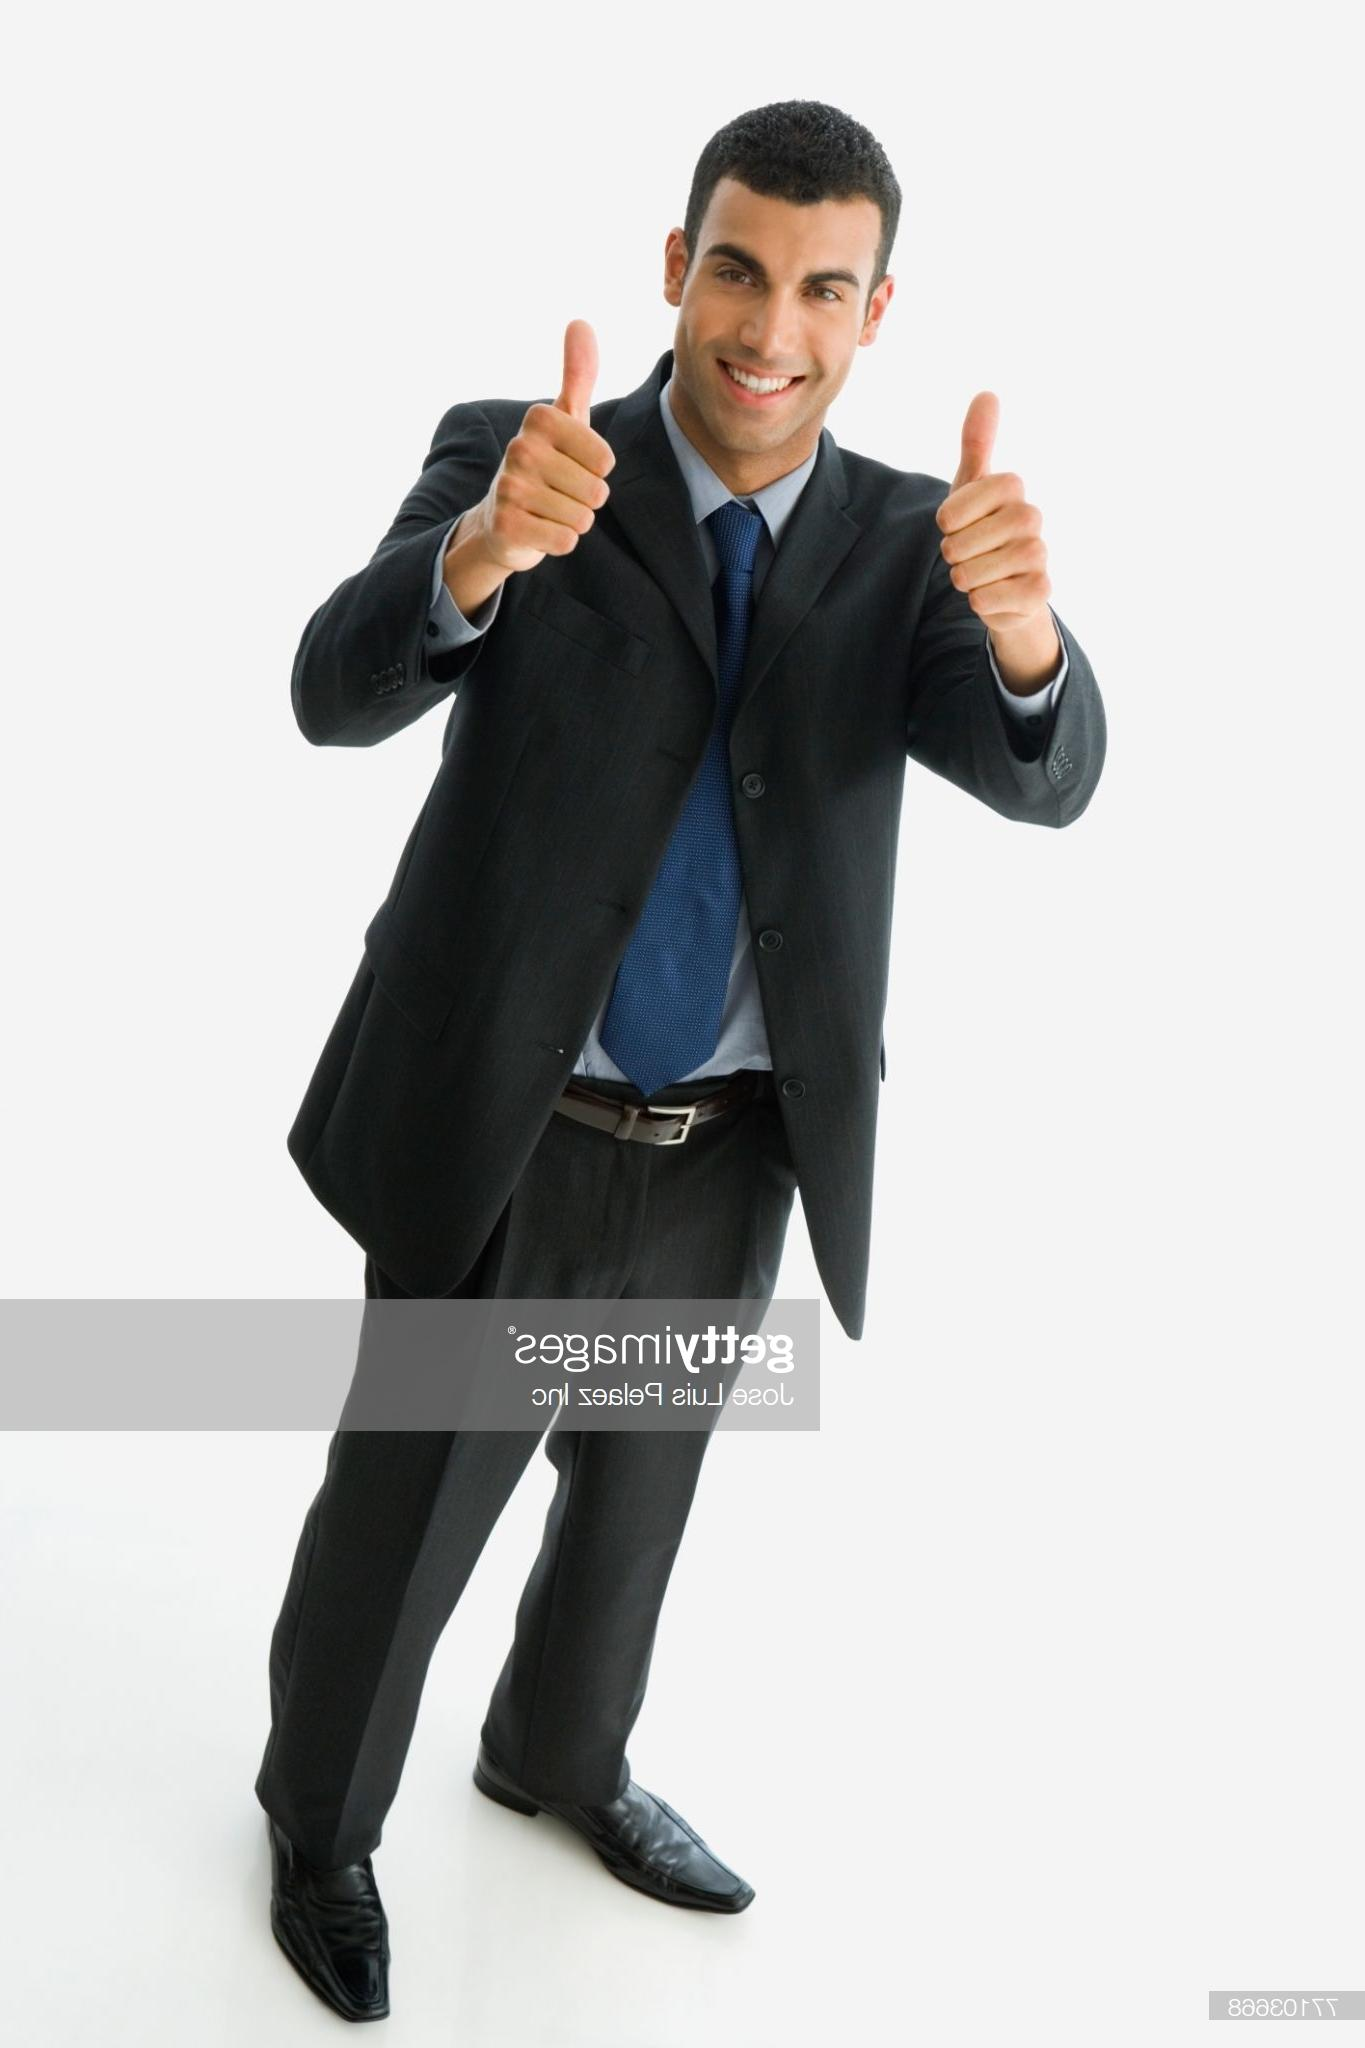thumbsup: (491, 320, 619, 557), (934, 390, 1053, 617)
